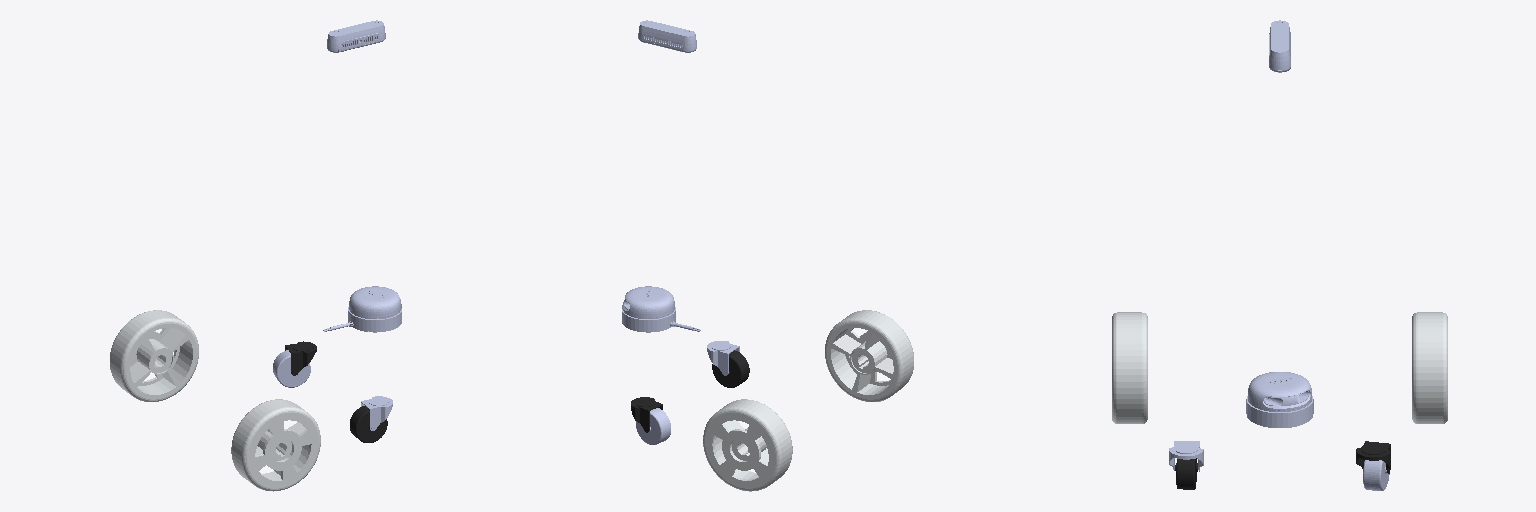
URDF robot description (aimibot):
<?xml version="1.0"?>
<robot
  name="aimibot">

  <link name="base_footprint"/>

  <joint name="base_joint" type="fixed">
      <origin xyz="0 0 0" rpy="-1.57079633 0 0" />
      <parent link="base_footprint"/>
      <child link="base_link" />
  </joint>

  <link
    name="base_link">
    <inertial>
      <origin
        xyz="0.078259 0.0034734 0.22606"
        rpy="0 0 0" />
      <mass
        value="3.9085" />
      <inertia
        ixx="0.18377"
        ixy="0.0013005"
        ixz="0.020054"
        iyy="0.19957"
        iyz="-0.0041718"
        izz="0.039639" />
    </inertial>
    <visual>
      <origin
        xyz="0 0 0"
        rpy="0 0 0" />
      <geometry>
        <mesh
          filename="package://aimibot2_description/meshes/base_link.STL" />
      </geometry>
      <material
        name="">
        <color
          rgba="0.79216 0.81961 0.93333 1" />
      </material>
    </visual>
    <collision>
      <origin
        xyz="0 0 0"
        rpy="0 0 0" />
      <geometry>
        <mesh
          filename="package://aimibot2_description/meshes/base_link.STL" />
      </geometry>
    </collision>
  </link>
  <link
    name="leftuniversalwheelbase_link">
    <inertial>
      <origin
        xyz="-1.0216E-08 -0.0080301 0.0034389"
        rpy="0 0 0" />
      <mass
        value="0.026051" />
      <inertia
        ixx="0"
        ixy="0"
        ixz="0"
        iyy="0"
        iyz="0"
        izz="0" />
    </inertial>
    <visual>
      <origin
        xyz="0 0 0"
        rpy="0 0 0" />
      <geometry>
        <mesh
          filename="package://aimibot2_description/meshes/leftuniversalwheelbase_link.STL" />
      </geometry>
      <material
        name="">
        <color
          rgba="0.2 0.2 0.2 1" />
      </material>
    </visual>
    <collision>
      <origin
        xyz="0 0 0"
        rpy="0 0 0" />
      <geometry>
        <mesh
          filename="package://aimibot2_description/meshes/leftuniversalwheelbase_link.STL" />
      </geometry>
    </collision>
  </link>
  <joint
    name="leftuniversalwheelbase_joint"
    type="fixed">
    <origin
      xyz="0.2001 0.0064701 0.10505"
      rpy="0.028257 1.3409 -3.1141" />
    <parent
      link="base_link" />
    <child
      link="leftuniversalwheelbase_link" />
    <axis
      xyz="0 1 0" />
  </joint>
  <link
    name="leftuniversalwheel_link">
    <inertial>
      <origin
        xyz="-3.0531E-16 0 0"
        rpy="0 0 0" />
      <mass
        value="0.041322" />
      <inertia
        ixx="0"
        ixy="0"
        ixz="0"
        iyy="0"
        iyz="0"
        izz="0" />
    </inertial>
    <visual>
      <origin
        xyz="0 0 0"
        rpy="0 0 0" />
      <geometry>
        <mesh
          filename="package://aimibot2_description/meshes/leftuniversalwheel_link.STL" />
      </geometry>
      <material
        name="">
        <color
          rgba="0.79216 0.81961 0.93333 1" />
      </material>
    </visual>
    <collision>
      <origin
        xyz="0 0 0"
        rpy="0 0 0" />
      <geometry>
        <mesh
          filename="package://aimibot2_description/meshes/leftuniversalwheel_link.STL" />
      </geometry>
    </collision>
  </link>
  <joint
    name="leftuniversalwheel_joint"
    type="fixed">
    <origin
      xyz="0 -0.031306 0.016006"
      rpy="-1.4579 -4.0483E-16 4.3368E-18" />
    <parent
      link="leftuniversalwheelbase_link" />
    <child
      link="leftuniversalwheel_link" />
    <axis
      xyz="-1 0 0" />
  </joint>
  <link
    name="rightuniversalwheelbase_link">
    <inertial>
      <origin
        xyz="-1.2633E-08 -0.007991 0.0034389"
        rpy="0 0 0" />
      <mass
        value="0.0035932" />
      <inertia
        ixx="0"
        ixy="0"
        ixz="0"
        iyy="0"
        iyz="0"
        izz="0" />
    </inertial>
    <visual>
      <origin
        xyz="0 0 0"
        rpy="0 0 0" />
      <geometry>
        <mesh
          filename="package://aimibot2_description/meshes/rightuniversalwheelbase_link.STL" />
      </geometry>
      <material
        name="">
        <color
          rgba="0.79216 0.81961 0.93333 1" />
      </material>
    </visual>
    <collision>
      <origin
        xyz="0 0 0"
        rpy="0 0 0" />
      <geometry>
        <mesh
          filename="package://aimibot2_description/meshes/rightuniversalwheelbase_link.STL" />
      </geometry>
    </collision>
  </link>
  <joint
    name="rightuniversalwheelbase_joint"
    type="fixed">
    <origin
      xyz="0.2001 0.0051569 -0.10495"
      rpy="0.11696 1.5156 -3.0248" />
    <parent
      link="base_link" />
    <child
      link="rightuniversalwheelbase_link" />
    <axis
      xyz="0 1 0" />
  </joint>
  <link
    name="rightuniversalwheel_link">
    <inertial>
      <origin
        xyz="1.3878E-17 0 0"
        rpy="0 0 0" />
      <mass
        value="0.29958" />
      <inertia
        ixx="0"
        ixy="0"
        ixz="0"
        iyy="0"
        iyz="0"
        izz="0" />
    </inertial>
    <visual>
      <origin
        xyz="0 0 0"
        rpy="0 0 0" />
      <geometry>
        <mesh
          filename="package://aimibot2_description/meshes/rightuniversalwheel_link.STL" />
      </geometry>
      <material
        name="">
        <color
          rgba="0.2 0.2 0.2 1" />
      </material>
    </visual>
    <collision>
      <origin
        xyz="0 0 0"
        rpy="0 0 0" />
      <geometry>
        <mesh
          filename="package://aimibot2_description/meshes/rightuniversalwheel_link.STL" />
      </geometry>
    </collision>
  </link>
  <joint
    name="rightuniversalwheel_joint"
    type="fixed">
    <origin
      xyz="0 -0.0312671565150945 0.0160055106119301"
      rpy="-1.89708150013336 3.24011278148451E-17 -1.21430643318376E-17" />
    <parent
      link="rightuniversalwheelbase_link" />
    <child
      link="rightuniversalwheel_link" />
    <axis
      xyz="-1 0 0" />
  </joint>
  <link
    name="leftwheel_link">
    <inertial>
      <origin
        xyz="-2.99E-05 -1.1207E-16 -0.021057"
        rpy="0 0 0" />
      <mass
        value="0.67833" />
      <inertia
        ixx="0"
        ixy="0"
        ixz="0"
        iyy="0"
        iyz="0"
        izz="0" />
    </inertial>
    <visual>
      <origin
        xyz="0 0 0"
        rpy="0 0 0" />
      <geometry>
        <mesh
          filename="package://aimibot2_description/meshes/leftwheel_link.STL" />
      </geometry>
      <material
        name="">
        <color
          rgba="0.89804 0.91765 0.92941 1" />
      </material>
    </visual>
    <collision>
      <origin
        xyz="0 0 0"
        rpy="0 0 0" />
      <geometry>
        <mesh
          filename="package://aimibot2_description/meshes/leftwheel_link.STL" />
      </geometry>
    </collision>
  </link>
  <joint
    name="leftwheel_joint"
    type="continuous">
    <origin
      xyz="0 0 0.148"
      rpy="-3.14159265358979 3.34895633660176E-17 2.56288301873173" />
    <parent
      link="base_link" />
    <child
      link="leftwheel_link" />
    <axis
      xyz="0 0 -1" />
  </joint>
  <link
    name="rightwheel_link">
    <inertial>
      <origin
        xyz="-2.99E-05 -1.0928E-16 -0.021057"
        rpy="0 0 0" />
      <mass
        value="0.67833" />
      <inertia
        ixx="0"
        ixy="0"
        ixz="0"
        iyy="0"
        iyz="0"
        izz="0" />
    </inertial>
    <visual>
      <origin
        xyz="0 0 0"
        rpy="0 0 0" />
      <geometry>
        <mesh
          filename="package://aimibot2_description/meshes/rightwheel_link.STL" />
      </geometry>
      <material
        name="">
        <color
          rgba="0.89804 0.91765 0.92941 1" />
      </material>
    </visual>
    <collision>
      <origin
        xyz="0 0 0"
        rpy="0 0 0" />
      <geometry>
        <mesh
          filename="package://aimibot2_description/meshes/rightwheel_link.STL" />
      </geometry>
    </collision>
  </link>
  <joint
    name="rightwheel_joint"
    type="continuous">
    <origin
      xyz="0 0 -0.148"
      rpy="-1.54E-17 5.9262E-17 1.3166" />
    <parent
      link="base_link" />
    <child
      link="rightwheel_link" />
    <axis
      xyz="0 0 1" />
  </joint>
  <link
    name="laser_link">
    <inertial>
      <origin
        xyz="0.0018211 0.0011888 0.020474"
        rpy="0 0 0" />
      <mass
        value="0.043218" />
      <inertia
        ixx="7.2888E-06"
        ixy="-9.8675E-07"
        ixz="-2.1013E-06"
        iyy="1.292E-05"
        iyz="-4.6013E-07"
        izz="7.573E-06" />
    </inertial>
    <visual>
      <origin
        xyz="0 0 0"
        rpy="0 0 0" />
      <geometry>
        <mesh
          filename="package://aimibot2_description/meshes/laser_link.STL" />
      </geometry>
      <material
        name="">
        <color
          rgba="0.79216 0.81961 0.93333 1" />
      </material>
    </visual>
    <collision>
      <origin
        xyz="0 0 0"
        rpy="0 0 0" />
      <geometry>
        <mesh
          filename="package://aimibot2_description/meshes/laser_link.STL" />
      </geometry>
    </collision>
  </link>
  <joint
    name="laser_joint"
    type="fixed">
    <origin
      xyz="0.255 0 0.062"
      rpy="0 0 0" />
    <parent
      link="base_footprint" />
    <child
      link="laser_link" />
    <axis
      xyz="0 0 0" />
  </joint>
  <link
    name="realsense_link">
    <inertial>
      <origin
        xyz="4.3234E-05 -5.8828E-05 -0.012713"
        rpy="0 0 0" />
      <mass
        value="0.046209" />
      <inertia
        ixx="8.1368E-08"
        ixy="2.4182E-09"
        ixz="-3.6131E-07"
        iyy="1.6858E-06"
        iyz="5.4457E-10"
        izz="1.6045E-06" />
    </inertial>
    <visual>
      <origin
        xyz="0 0 0"
        rpy="0 0 0" />
      <geometry>
        <mesh
          filename="package://aimibot2_description/meshes/realsense_link.STL" />
      </geometry>
      <material
        name="">
        <color
          rgba="0.79216 0.81961 0.93333 1" />
      </material>
    </visual>
    <collision>
      <origin
        xyz="0 0 0"
        rpy="0 0 0" />
      <geometry>
        <mesh
          filename="package://aimibot2_description/meshes/realsense_link.STL" />
      </geometry>
    </collision>
  </link>
  <joint
    name="realsense_joint"
    type="fixed">
    <origin
      xyz="0.22476 -0.5145 4.8928E-05"
      rpy="1.5708 0 0" />
    <parent
      link="base_link" />
    <child
      link="realsense_link" />
    <axis
      xyz="0 0 0" />
  </joint>

<!-- Drive diff controller -->
<gazebo>
  <plugin name="differential_drive_controller" filename="libgazebo_ros_diff_drive.so">
    <alwaysOn>true</alwaysOn>
    <legacyMode>false</legacyMode>
    <updateRate>100</updateRate>
    <leftJoint>wheel_left_joint</leftJoint>
    <rightJoint>wheel_right_joint</rightJoint>
    <wheelSeparation>0.365</wheelSeparation>
    <wheelDiameter>0.125</wheelDiameter>
    <torque>2.499</torque>
    <commandTopic>cmd_vel</commandTopic>
    <odometryTopic>odom</odometryTopic>
    <odometryFrame>odom</odometryFrame>
    <robotBaseFrame>base_footprint</robotBaseFrame>
    <broadcastTF>1</broadcastTF>
  </plugin>
</gazebo>
</robot>

--- Facts derived from the render (not from the file) ---
Views: 3 orthographic renders of the robot side by side, from view 1: azimuth 30°, elevation 25°; view 2: azimuth 150°, elevation 25°; view 3: azimuth 270°, elevation 25°.
Robot: aimibot — 10 links, 9 joints (2 continuous, 7 fixed); root link base_footprint; default pose: every joint at zero.
Visible links, largest first — view 1: leftwheel_link, rightwheel_link, laser_link, realsense_link, rightuniversalwheel_link, leftuniversalwheel_link, leftuniversalwheelbase_link, rightuniversalwheelbase_link; view 2: leftwheel_link, rightwheel_link, laser_link, realsense_link, rightuniversalwheel_link, leftuniversalwheel_link, rightuniversalwheelbase_link, leftuniversalwheelbase_link; view 3: leftwheel_link, rightwheel_link, laser_link, realsense_link, leftuniversalwheelbase_link, leftuniversalwheel_link, rightuniversalwheelbase_link, rightuniversalwheel_link.
Boxes of the visible links, box(x1,y1,x2,y2) form: leftwheel_link: box(110, 310, 198, 401); rightwheel_link: box(231, 399, 320, 491); laser_link: box(323, 286, 401, 332); realsense_link: box(327, 20, 385, 52); rightuniversalwheel_link: box(350, 406, 387, 442); leftuniversalwheel_link: box(273, 350, 310, 387); leftuniversalwheelbase_link: box(285, 341, 316, 375); rightuniversalwheelbase_link: box(361, 396, 392, 430); leftwheel_link: box(703, 399, 792, 491); rightwheel_link: box(825, 310, 913, 401); laser_link: box(622, 286, 700, 332); realsense_link: box(638, 20, 696, 52); rightuniversalwheel_link: box(712, 350, 749, 387); leftuniversalwheel_link: box(636, 408, 670, 444); rightuniversalwheelbase_link: box(707, 341, 739, 375); leftuniversalwheelbase_link: box(631, 397, 662, 432); leftwheel_link: box(1412, 312, 1447, 423); rightwheel_link: box(1112, 312, 1147, 423); laser_link: box(1246, 372, 1313, 427); realsense_link: box(1269, 20, 1290, 72); leftuniversalwheelbase_link: box(1356, 441, 1390, 473); leftuniversalwheel_link: box(1363, 460, 1389, 490); rightuniversalwheelbase_link: box(1169, 441, 1203, 471); rightuniversalwheel_link: box(1175, 458, 1197, 489).
Size in the robot's own frame: 0.355 by 0.376 by 0.5773 metres.
Meshes: 9 distinct files referenced, 8 mesh visuals loaded (8 binary STL); not drawn: 1 (reference not matched to a file when rendering).